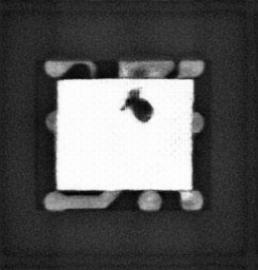DIE_INK: (119, 85, 153, 124)
